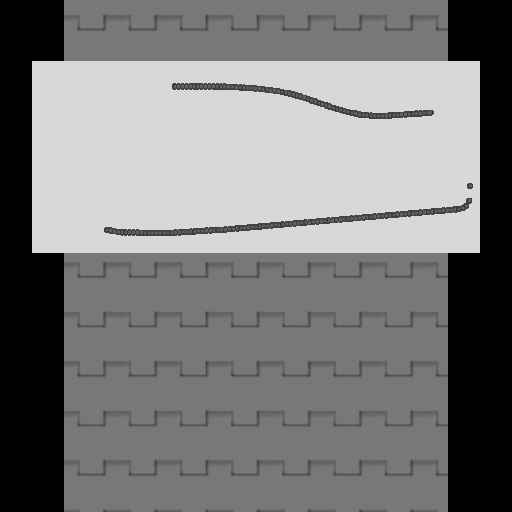Defect: (75, 75, 170, 236)
